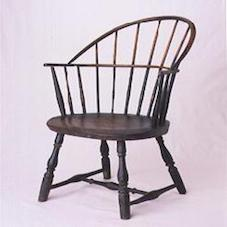chair: (25, 4, 208, 217)
